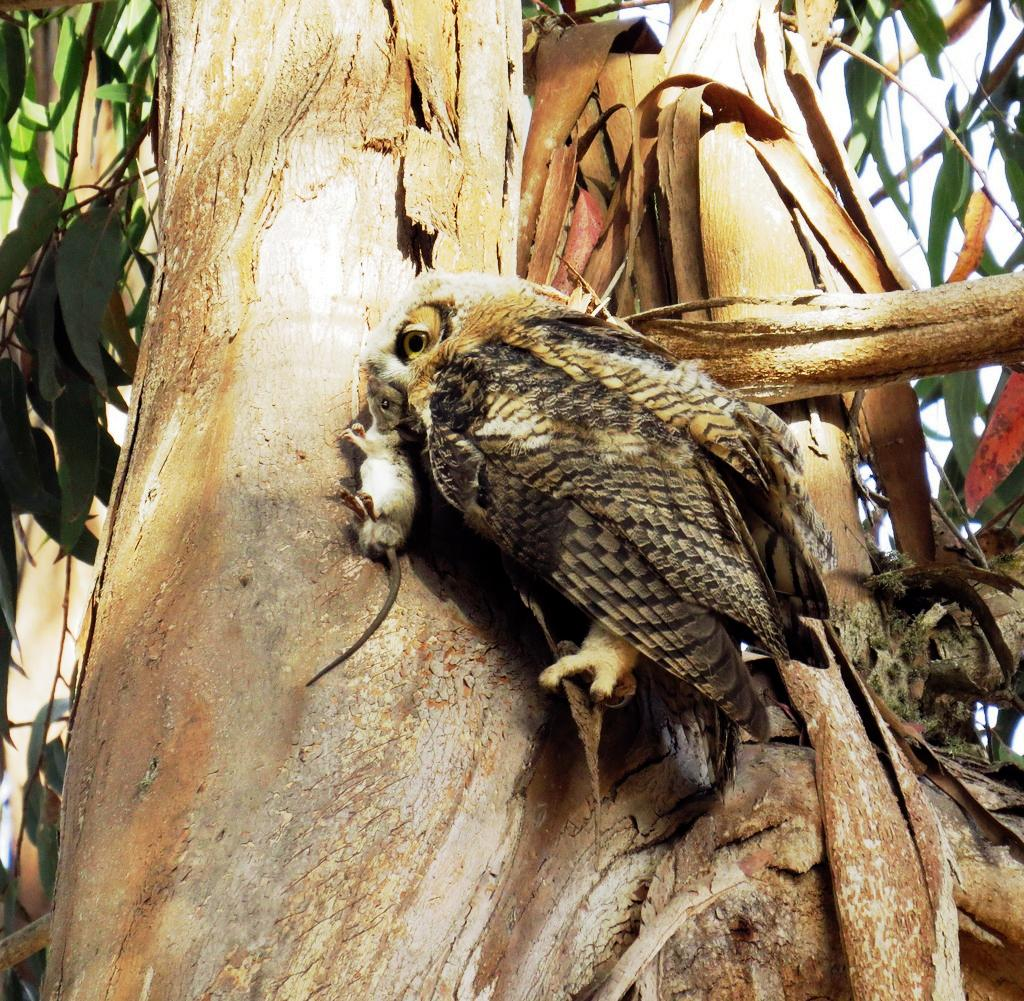Owl: (357, 272, 838, 788)
